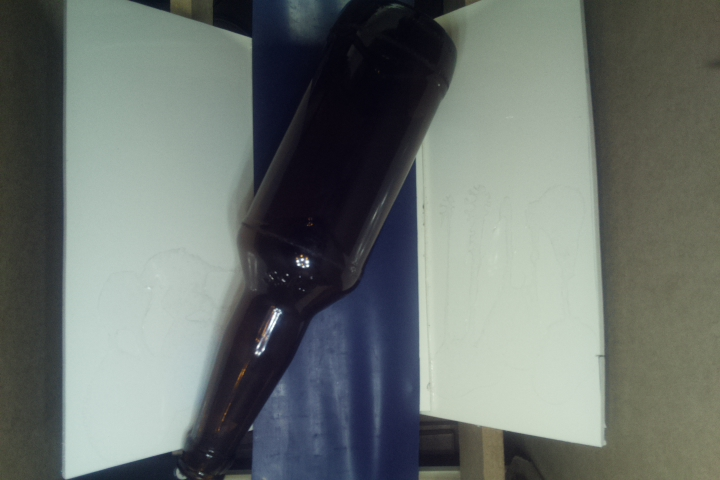makju: (175, 1, 462, 478)
